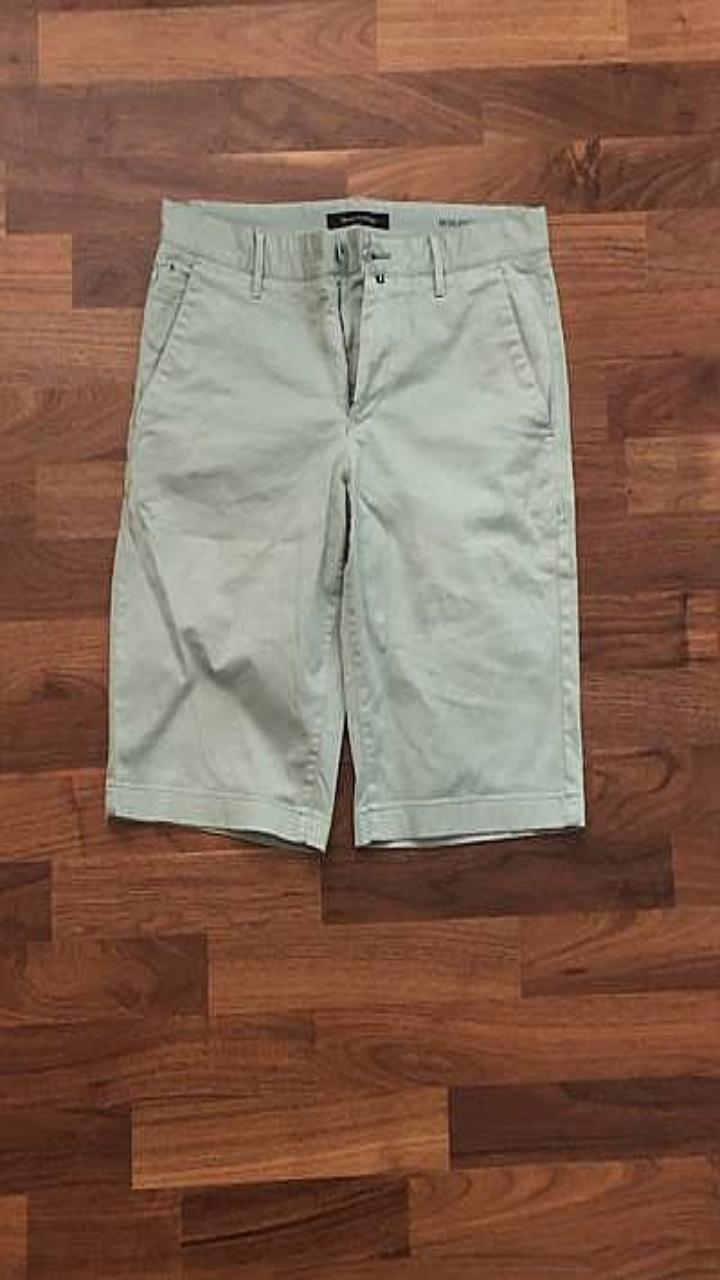Shorts: (106, 196, 584, 850)
